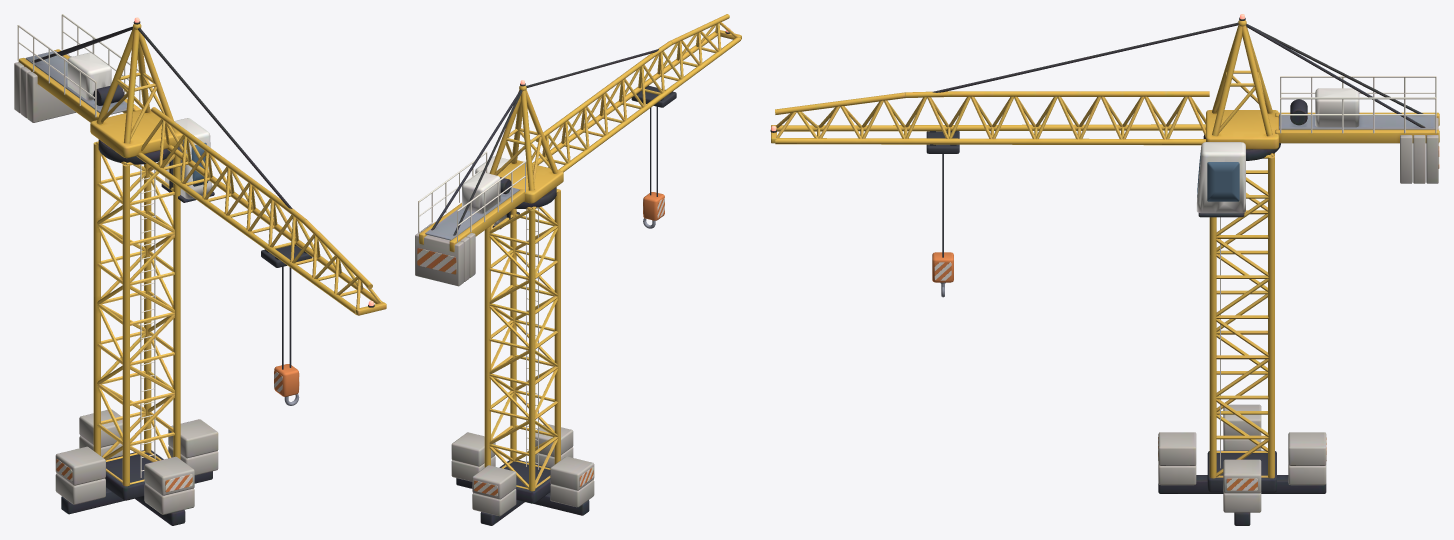
Rendered from construction-crane.glb.
3 views of the same model, side by side, from view 1: azimuth 30°, elevation 25°; view 2: azimuth 150°, elevation 25°; view 3: azimuth 270°, elevation 25° (orthographic). The views are drawn at different scales.
Parts seen in each view (by area): view 1: construction-crane_body, construction-crane_upper, construction-crane_trolley_assembly; view 2: construction-crane_body, construction-crane_upper, construction-crane_trolley_assembly; view 3: construction-crane_upper, construction-crane_body, construction-crane_trolley_assembly.
Boxes of the visible parts, x1,y1,x2,y2 form: construction-crane_body: (55, 141, 218, 525); construction-crane_upper: (14, 14, 386, 315); construction-crane_trolley_assembly: (191, 142, 312, 405); construction-crane_body: (451, 189, 594, 525); construction-crane_upper: (415, 14, 741, 286); construction-crane_trolley_assembly: (631, 85, 676, 228); construction-crane_upper: (770, 17, 1439, 217); construction-crane_body: (1158, 153, 1326, 525); construction-crane_trolley_assembly: (926, 131, 1239, 297).
Size of the model in its own units: 4.62 by 14.41 by 18.33.
Materials: 4 (4 with a texture image).
